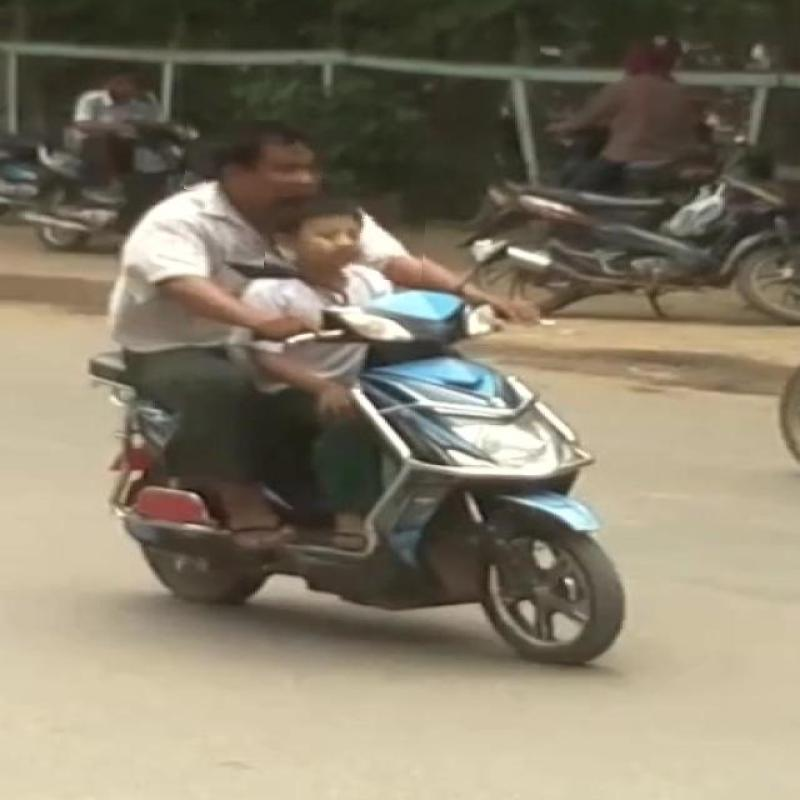nohelmet: (265, 198, 425, 280), (186, 120, 322, 195)
